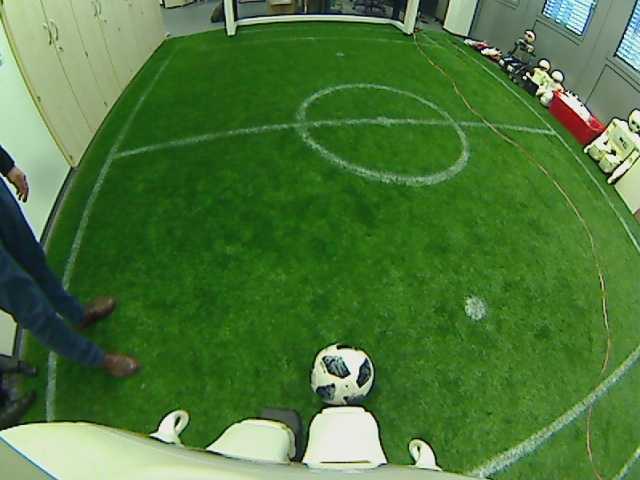ball: (309, 342, 376, 408)
